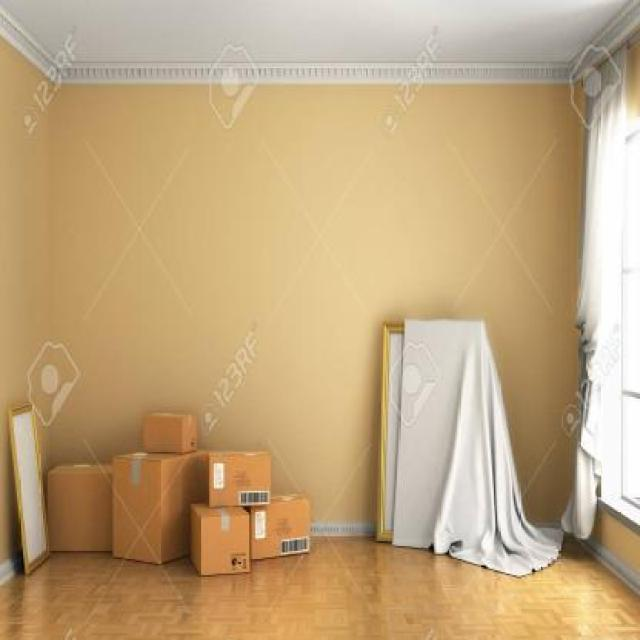box: (108, 449, 202, 603), (44, 452, 114, 564), (184, 505, 259, 605), (245, 485, 326, 576), (206, 432, 279, 518), (140, 398, 202, 466)
